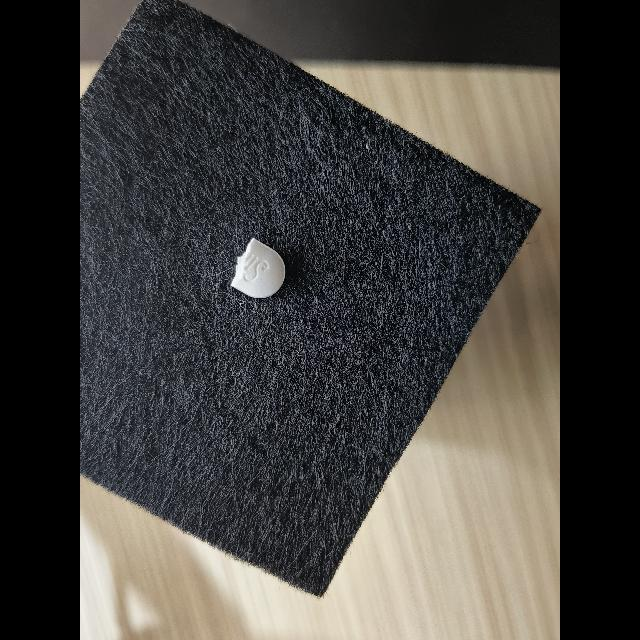Chipped Pill: (231, 238, 285, 298)
